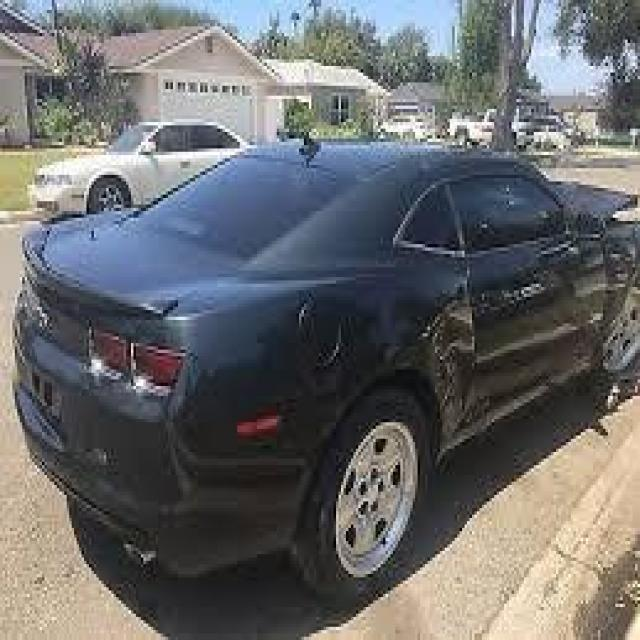damaged: (422, 300, 482, 439)
